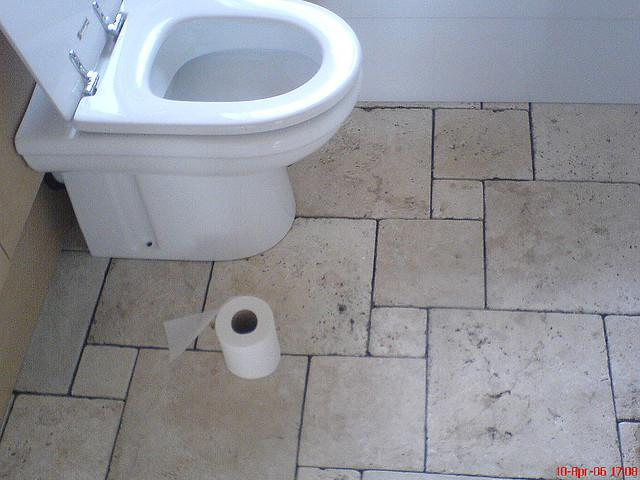Sanitario: (6, 9, 371, 267)
